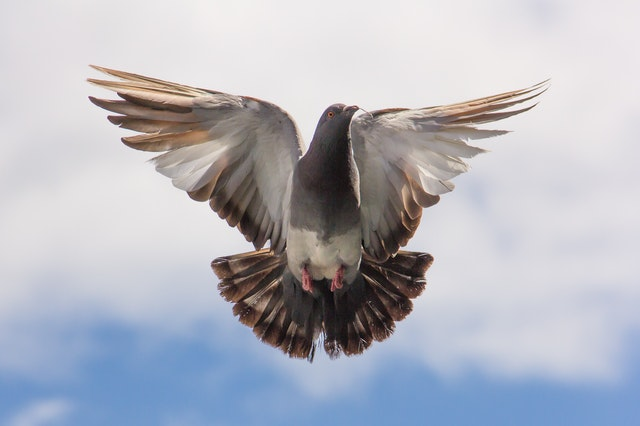bird: (86, 61, 550, 360)
